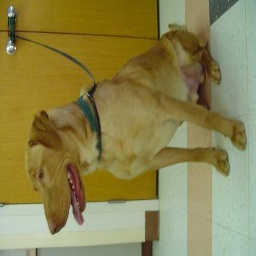dog: (22, 29, 240, 235)
